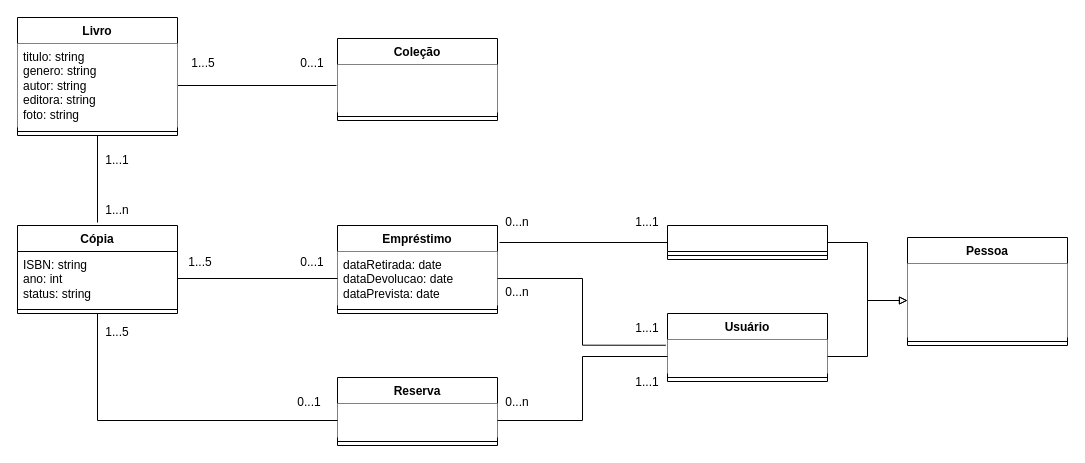
Image size: 1085x463. Some labels were removed from this diagram. Each missing label, with the centre of its shape:
dataPrevistaReserva: date: the point at 417,420
nome: string data_nascimento: date email: string senha: string: the point at 987,300
nome: string tipo: string: the point at 417,88
Secretário: the point at 747,242
telefone: string: the point at 747,356
